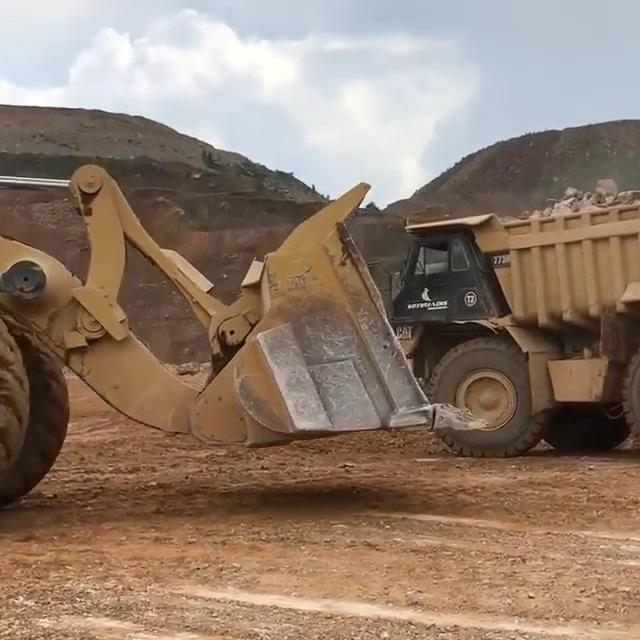dump truck: (386, 172, 640, 463)
wheel loader: (0, 16, 487, 545)
